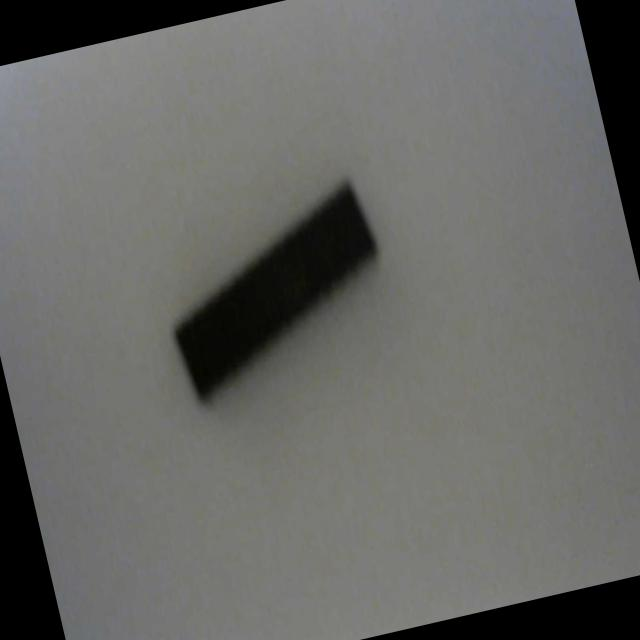atmega: (144, 170, 406, 410)
